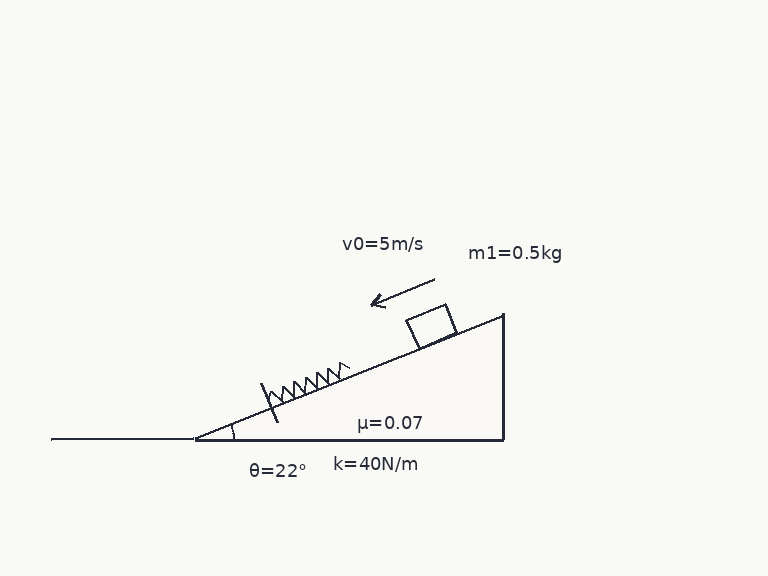block: (405, 302, 459, 350)
ramp: (192, 312, 505, 441)
spring: (266, 361, 350, 403)
